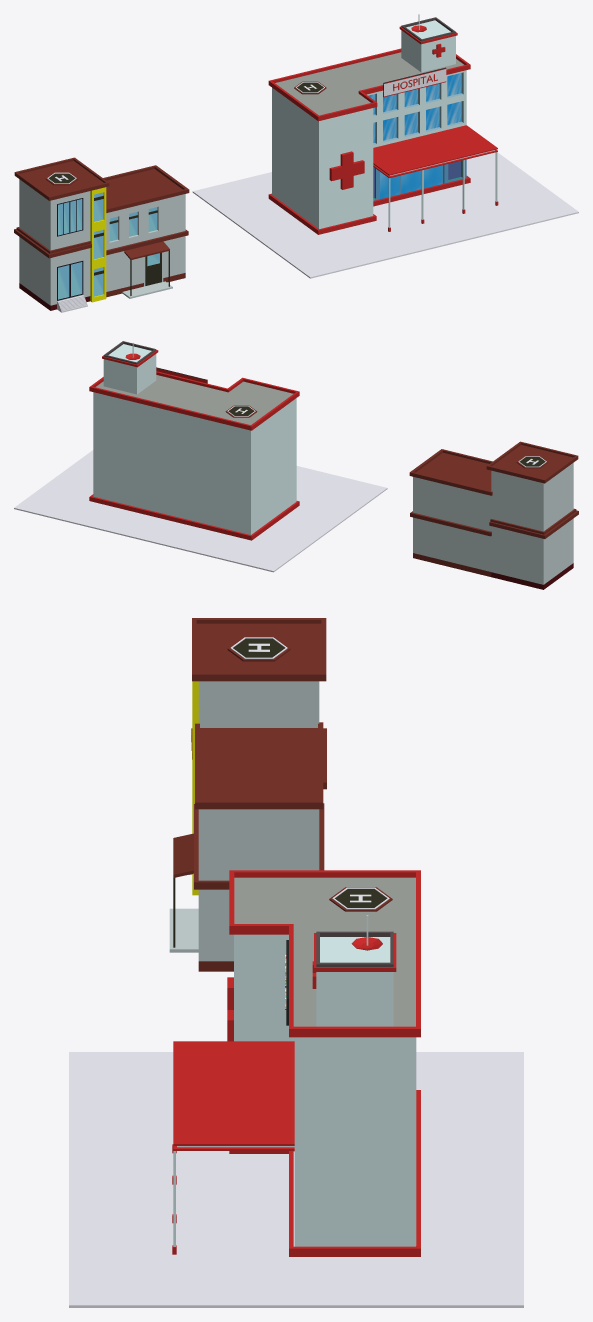
The model's file is Hospitals.fbx.
3 renders of one model, top to bottom at view 1: azimuth 30°, elevation 25°; view 2: azimuth 150°, elevation 25°; view 3: azimuth 270°, elevation 25°, orthographic. The views are drawn at different scales.
Parts seen in each view (by area): view 1: Hospital2, Hospital; view 2: Hospital2, Hospital; view 3: Hospital2, Hospital.
Part boxes in pixels (left/top/right/bottom): Hospital2: left=192, top=14, right=578, bottom=278; Hospital: left=14, top=157, right=189, bottom=312; Hospital2: left=14, top=341, right=387, bottom=572; Hospital: left=409, top=441, right=578, bottom=589; Hospital2: left=69, top=870, right=523, bottom=1307; Hospital: left=169, top=618, right=326, bottom=971.
Size of the model in its own units: 2843 by 895 by 1163.
Materials: 2 (2 with a texture image).
